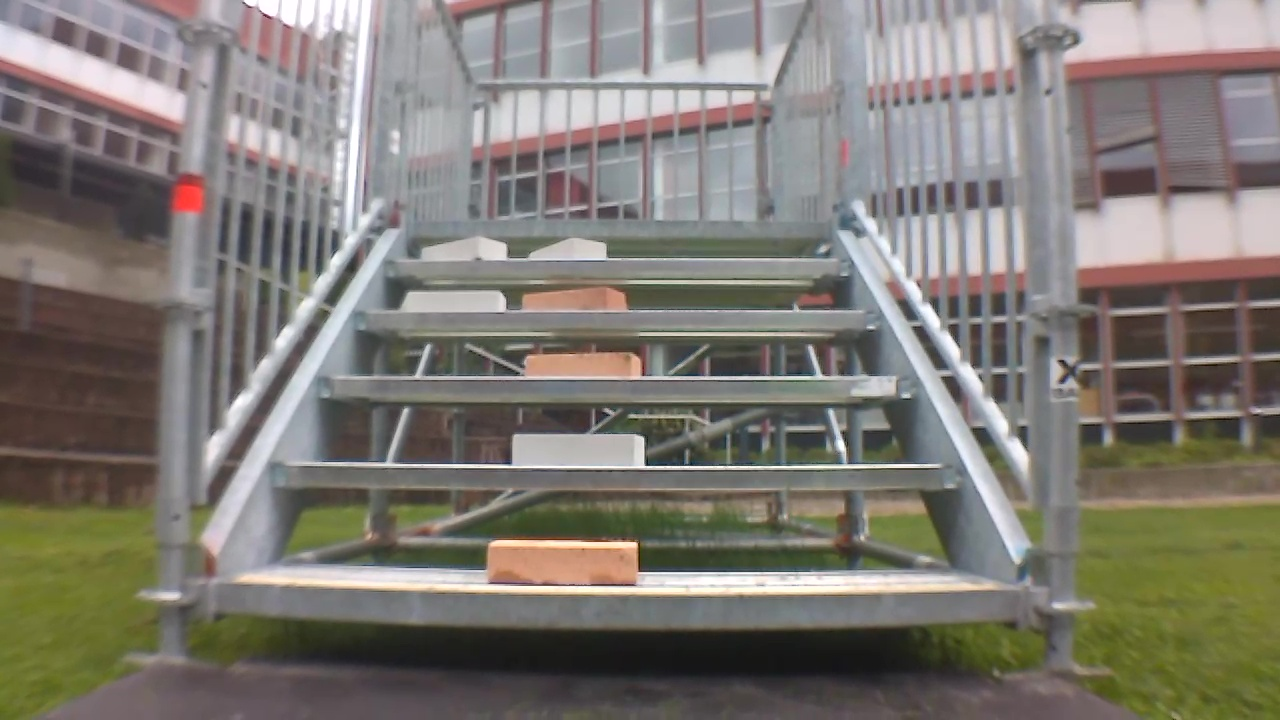brick: (487, 539, 637, 585), (513, 434, 644, 468), (527, 354, 641, 376), (525, 288, 625, 312), (407, 290, 506, 311), (422, 237, 506, 260), (530, 238, 606, 260)
edge: (216, 586, 1017, 628), (270, 463, 959, 490), (317, 375, 914, 402), (357, 310, 882, 330), (383, 258, 854, 277), (412, 218, 833, 237)
stairs: (134, 2, 1094, 669)
steps: (203, 214, 1028, 638)
